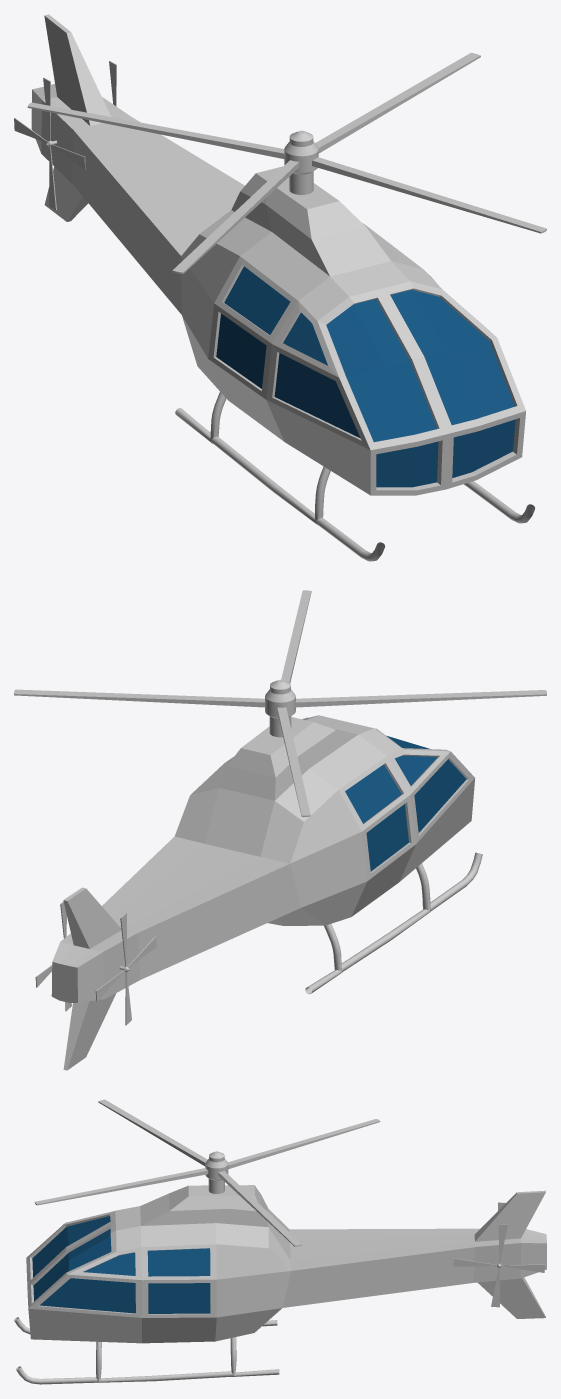
Rendered from helicopter_animation_000072.obj.
The picture shows the model from 3 angles, top to bottom: view 1: azimuth 30°, elevation 25°; view 2: azimuth 150°, elevation 25°; view 3: azimuth 270°, elevation 25°; orthographic projection. The views are drawn at different scales.
Parts seen in each view (by area): view 1: Helicopter.007_Cylinder.008, Helicopter.001_Cylinder.001, Helicopter.004_Cylinder.005; view 2: Helicopter.007_Cylinder.008, Helicopter.001_Cylinder.001, Helicopter.004_Cylinder.005; view 3: Helicopter.007_Cylinder.008, Helicopter.001_Cylinder.001, Helicopter.003_Cylinder.004.
Boxes of the visible parts, x1=… form: Helicopter.007_Cylinder.008: x1=31, y1=14, x2=535, y2=561; Helicopter.001_Cylinder.001: x1=27, y1=52, x2=546, y2=273; Helicopter.004_Cylinder.005: x1=14, y1=77, x2=85, y2=209; Helicopter.007_Cylinder.008: x1=51, y1=715, x2=482, y2=1070; Helicopter.001_Cylinder.001: x1=14, y1=590, x2=546, y2=816; Helicopter.004_Cylinder.005: x1=95, y1=912, x2=156, y2=1025; Helicopter.007_Cylinder.008: x1=14, y1=1185, x2=546, y2=1384; Helicopter.001_Cylinder.001: x1=34, y1=1099, x2=380, y2=1246; Helicopter.003_Cylinder.004: x1=453, y1=1224, x2=545, y2=1307.
Size of the model in its own units: 4.88 by 3.2 by 7.5.
